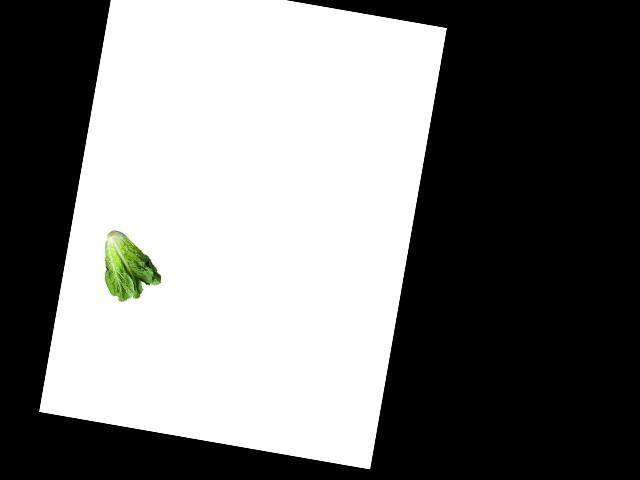lettuce: (92, 230, 171, 307)
